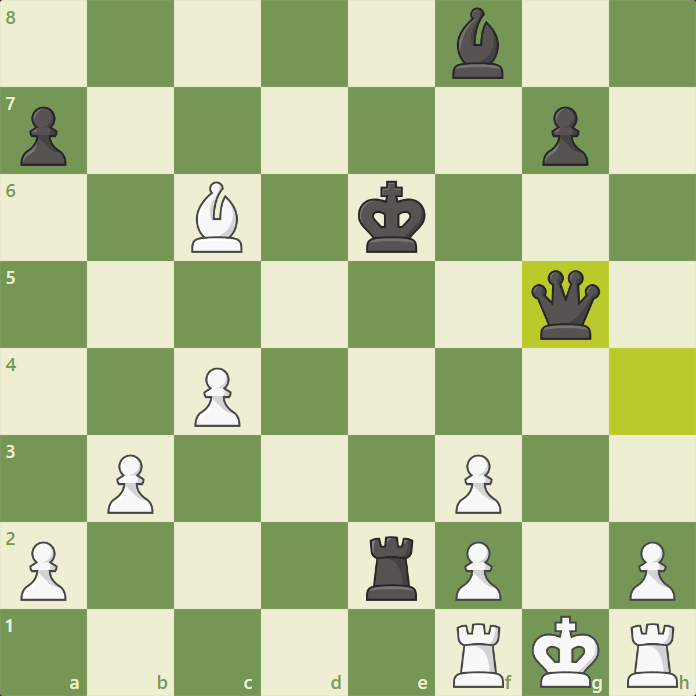K: (530, 614, 601, 691)
P: (15, 539, 70, 604), (103, 453, 158, 518), (189, 365, 244, 430), (450, 452, 505, 517), (450, 538, 505, 603), (626, 540, 681, 605)
R: (450, 621, 507, 691), (625, 621, 681, 691)
b: (448, 5, 506, 83), (187, 180, 246, 256)
k: (355, 178, 428, 257)
p: (18, 104, 69, 170), (541, 105, 591, 168)
q: (529, 267, 603, 342)
r: (363, 534, 421, 604)
